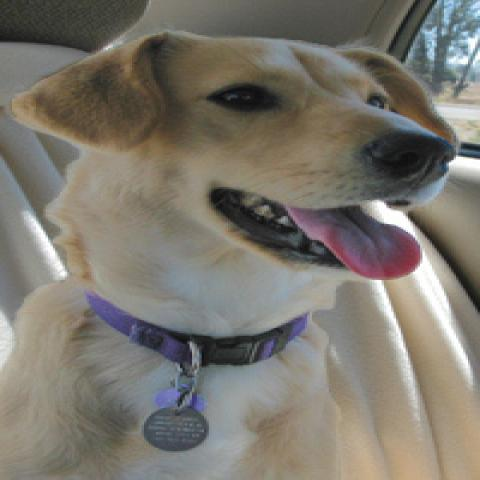car: (0, 0, 478, 376)
